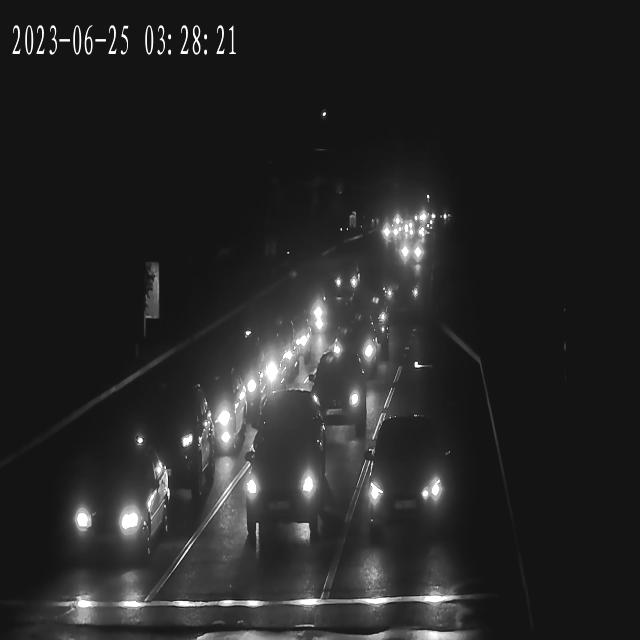Car: (57, 446, 170, 566), (356, 426, 454, 533), (244, 411, 326, 532), (124, 386, 205, 500), (182, 368, 247, 456), (235, 330, 304, 394), (310, 360, 368, 425), (274, 283, 334, 342), (325, 325, 385, 381), (378, 261, 422, 309), (329, 252, 363, 296), (402, 233, 424, 264), (396, 241, 424, 262), (386, 212, 403, 245)
